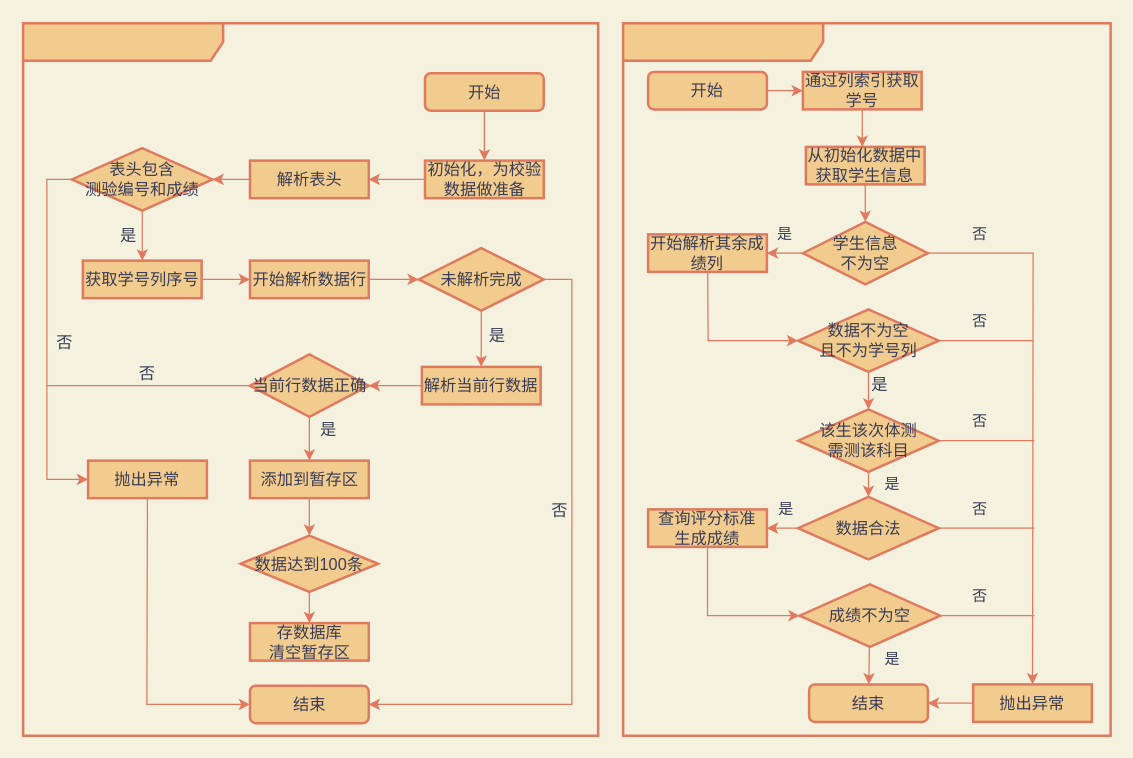
Some shapes in this 1133 by 758 pixel diagram are drawn without their labels. Here are the shapes that lost their labels. From the top down, the centre of each, then its label:
At point 310,378: "体测数据导入整体流程".
At point 866,378: "每行体测数据解析流程".
